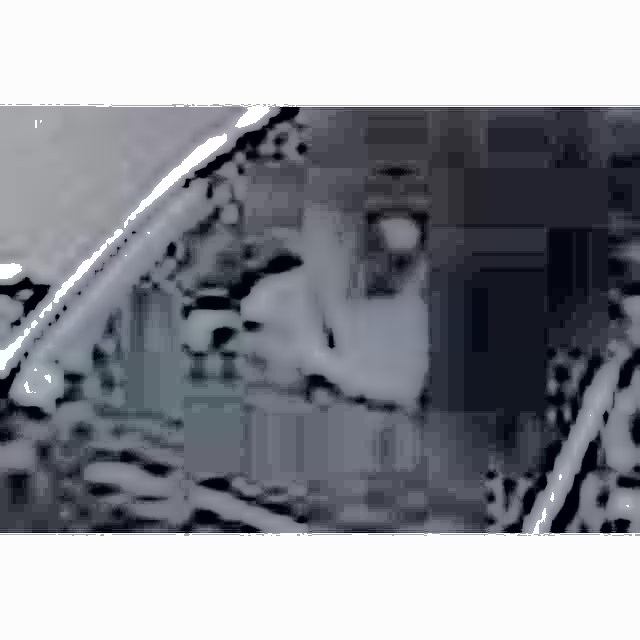pakai: (206, 229, 434, 412)
